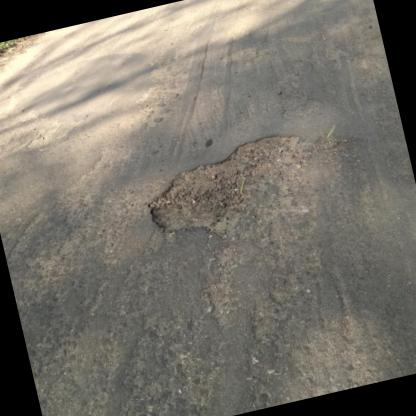pothole: (137, 124, 333, 254)
